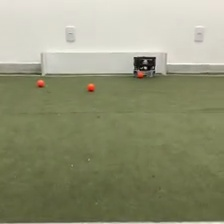ball: (35, 78, 45, 88), (86, 81, 96, 91), (136, 69, 144, 78)
goal: (38, 49, 169, 77)
robot: (131, 55, 157, 78)
